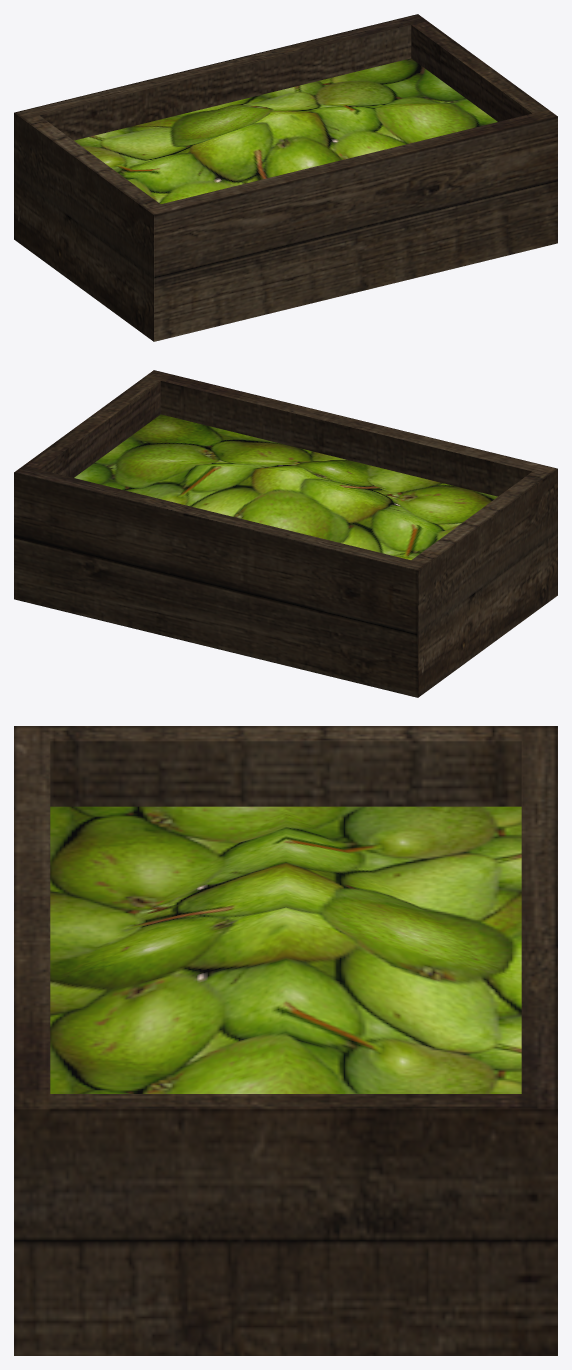
The model's file is Fruits2_LOD1.fbx.
The picture shows the model from 3 angles, top to bottom: view 1: azimuth 30°, elevation 25°; view 2: azimuth 150°, elevation 25°; view 3: azimuth 270°, elevation 25°; orthographic projection. The views are drawn at different scales.
Visible parts, largest first — view 1: polySurface91; view 2: polySurface91; view 3: polySurface91.
Part boxes in pixels (<box>): polySurface91: <box>14,14,557,341</box>; polySurface91: <box>14,370,557,697</box>; polySurface91: <box>14,726,557,1355</box>.
Size of the model in its own units: 3.91 by 1.17 by 2.34.
